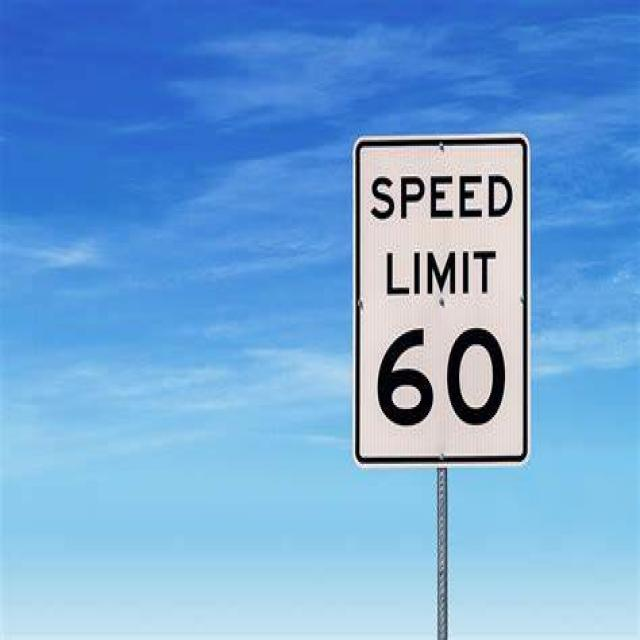speedLimit60: (351, 141, 528, 465)
